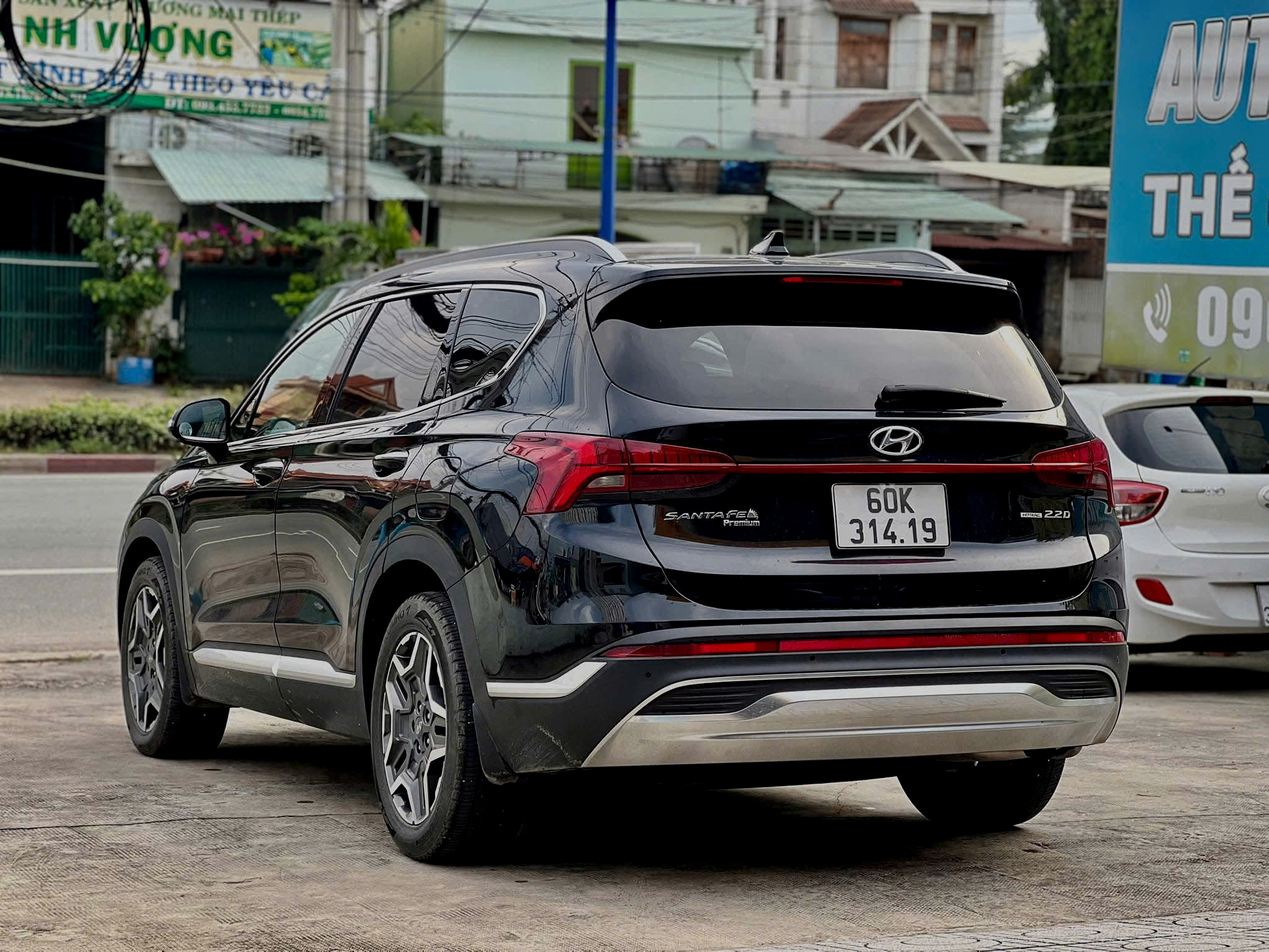Bien-so: (807, 482, 932, 571)
